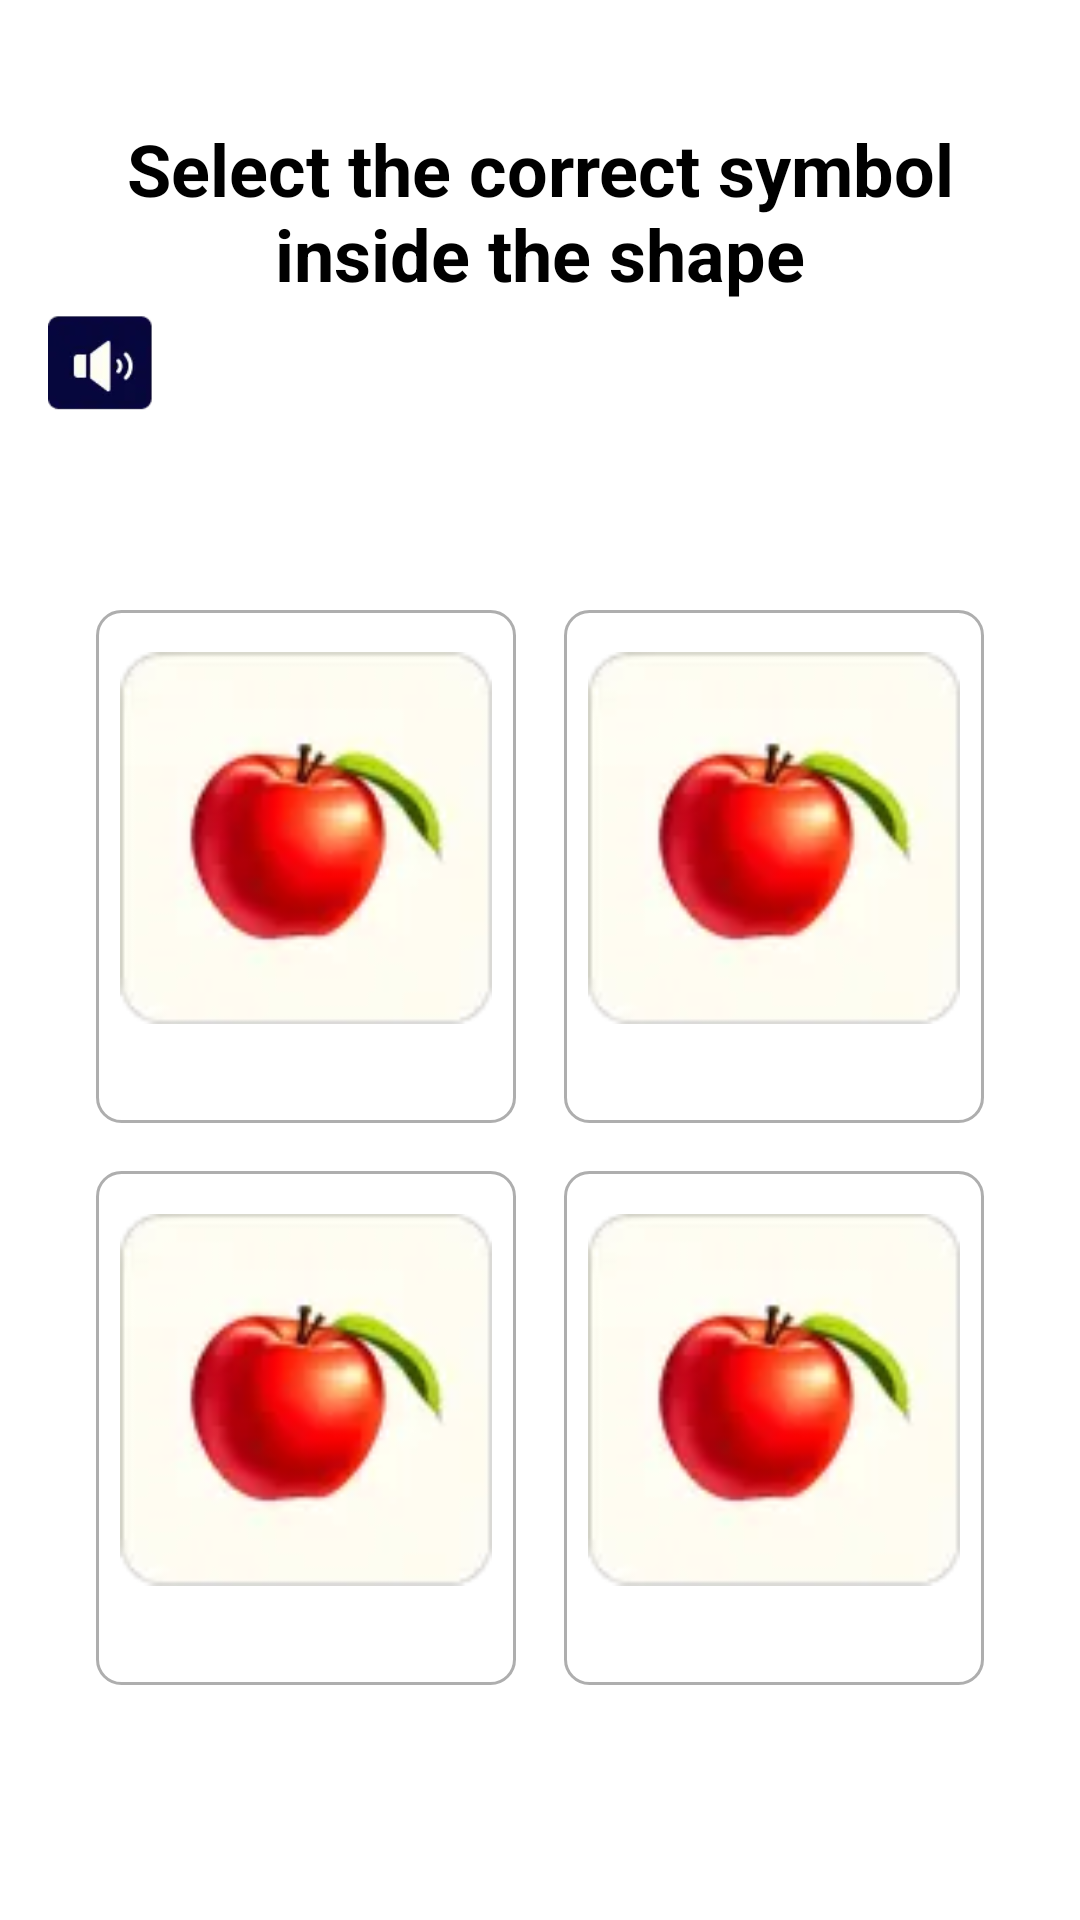

Screen size 1080×1920. Icon name, then its center in pixels as (x=x, y=y):
sound on: (x=100, y=363)
